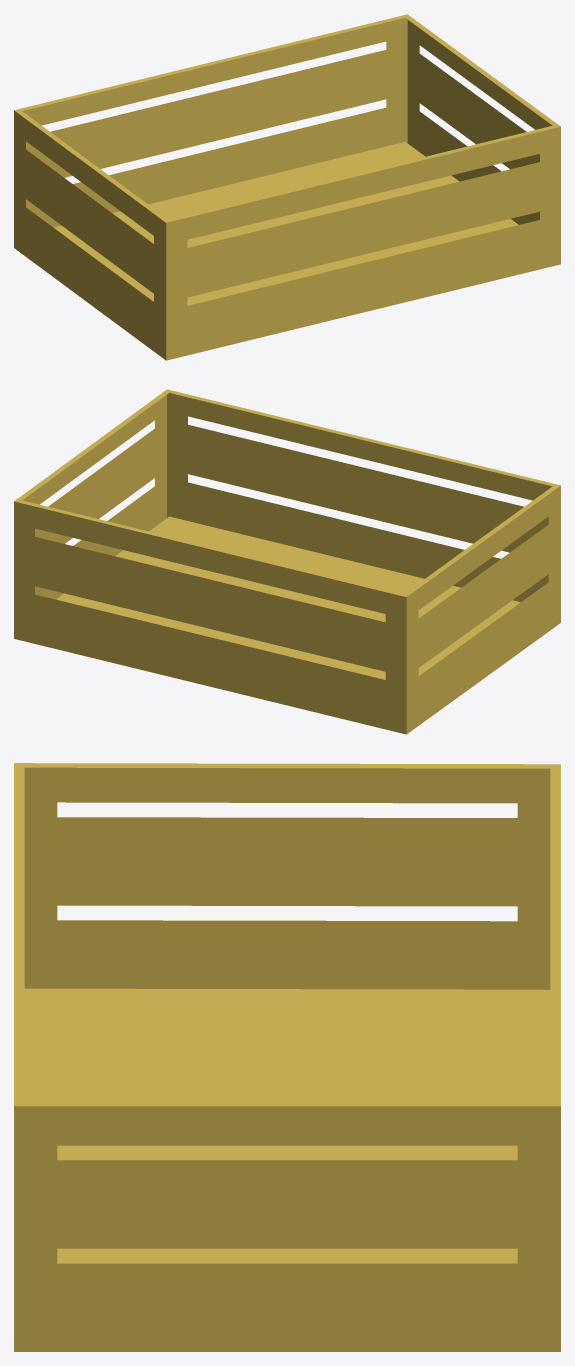
File: sweethome3d-contributions-crate-274.glb
The picture shows the model from 3 angles, top to bottom: view 1: azimuth 30°, elevation 25°; view 2: azimuth 150°, elevation 25°; view 3: azimuth 270°, elevation 25°; orthographic projection. The views are drawn at different scales.
Visible parts, largest first — view 1: 3_3, 2_2, 4_4; view 2: 3_3, 2_2, 4_4; view 3: 3_3, 2_2, 4_4.
Part boxes in pixels (left/top/right/bottom): 3_3: left=14, top=18, right=560, bottom=360; 2_2: left=54, top=142, right=518, bottom=305; 4_4: left=14, top=14, right=560, bottom=222; 3_3: left=14, top=393, right=560, bottom=734; 2_2: left=56, top=516, right=520, bottom=679; 4_4: left=14, top=389, right=560, bottom=596; 3_3: left=14, top=767, right=560, bottom=1351; 2_2: left=24, top=988, right=550, bottom=1263; 4_4: left=14, top=763, right=560, bottom=1106.
Size of the model in its own units: 59.06 by 19.69 by 39.76.
